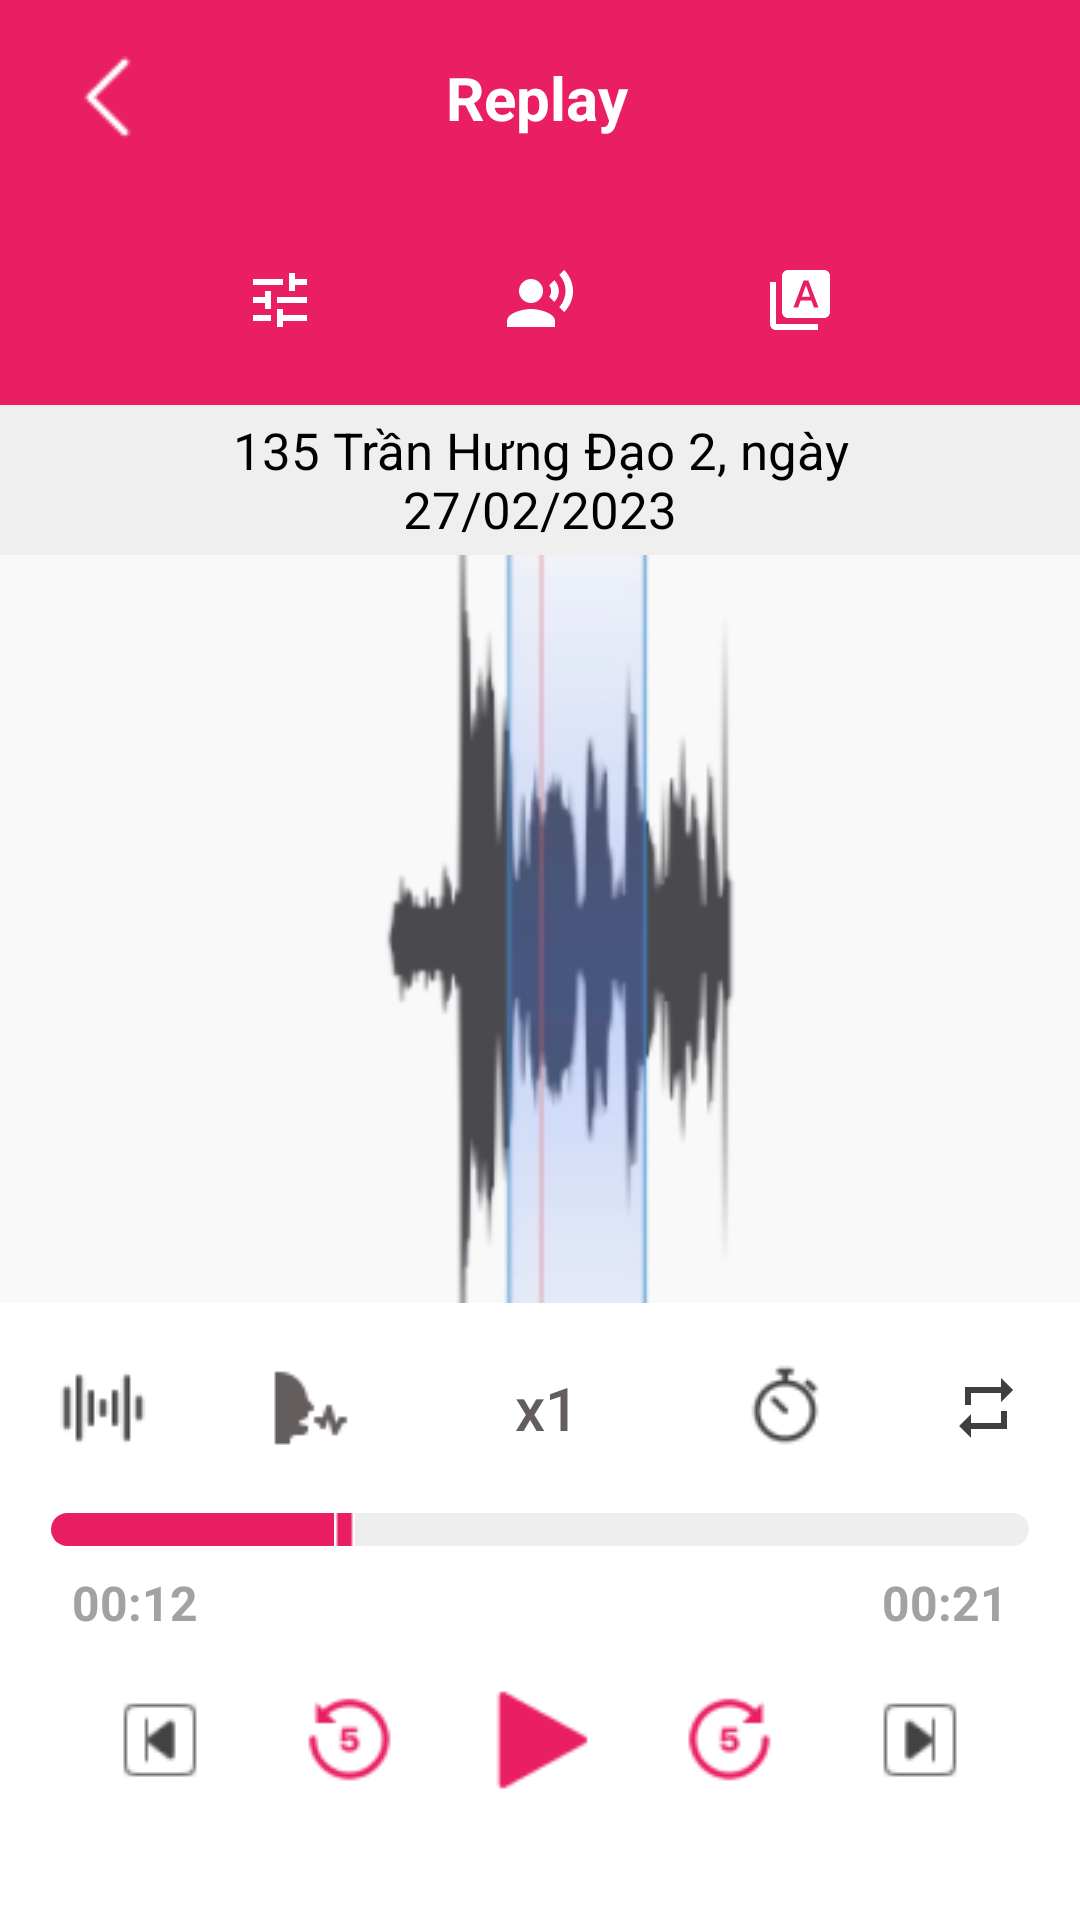

Named icons in this screenshot (1080x1920) and their bounding boxes, (x1, y1, x2, y2):
adjust: (253, 273, 307, 327)
audio wave: (62, 1374, 144, 1442)
back: (84, 57, 131, 137)
last: (883, 1703, 957, 1777)
next replay: (688, 1698, 771, 1781)
play replay: (497, 1691, 588, 1789)
prev replay: (308, 1698, 391, 1781)
repeat: (959, 1378, 1013, 1438)
time: (752, 1366, 819, 1444)
voice change: (274, 1371, 348, 1445)
